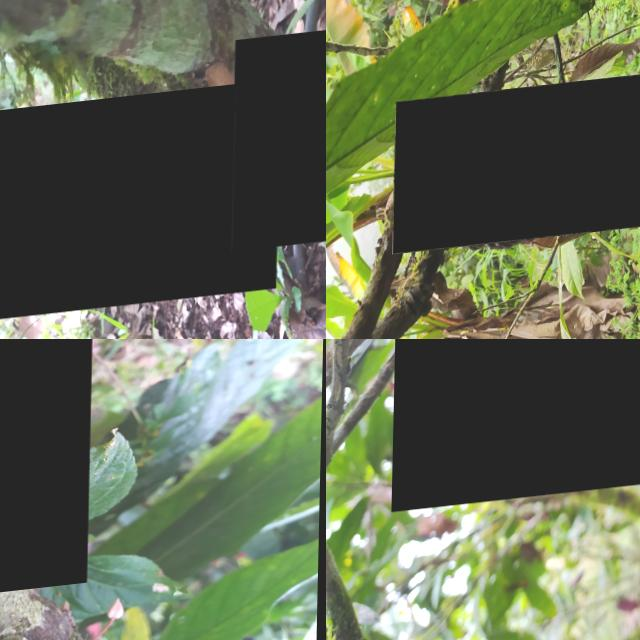Fitoftora: (393, 339, 640, 514)
Monilia: (393, 80, 640, 259), (232, 25, 326, 258)
Sana: (0, 87, 281, 328), (0, 339, 96, 620)
